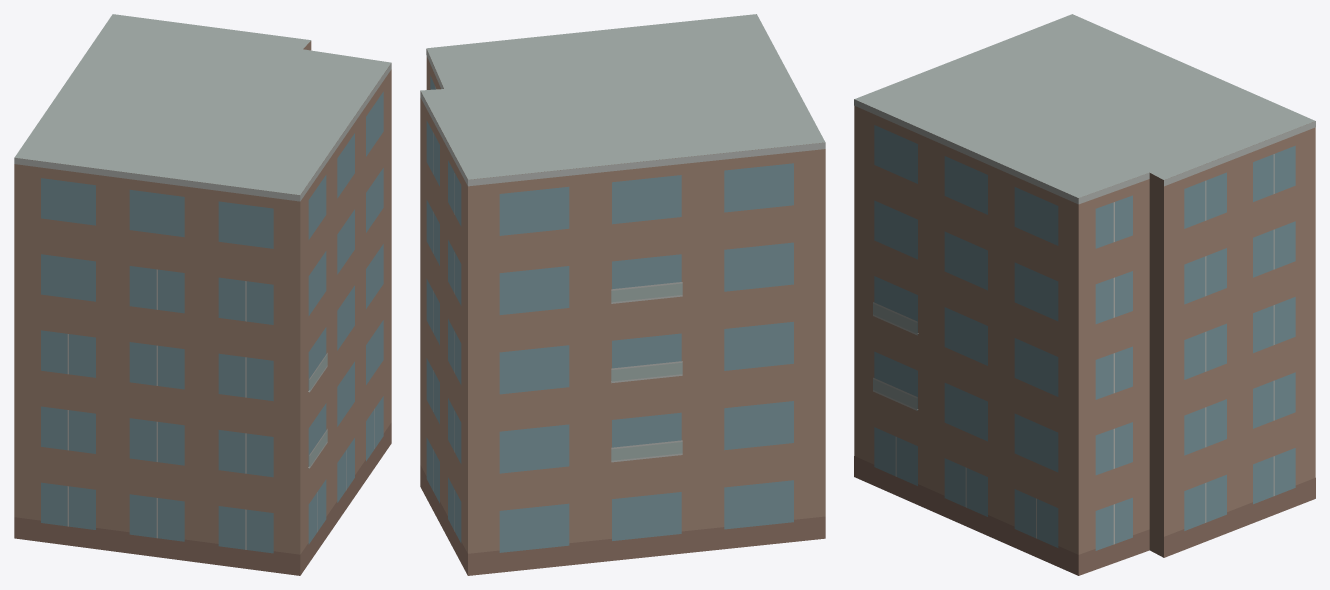
File: survey-upis-32718908.glb
The picture shows the model from 3 angles, left to right: view 1: azimuth 30°, elevation 25°; view 2: azimuth 150°, elevation 25°; view 3: azimuth 270°, elevation 25°; orthographic projection. The views are drawn at different scales.
Parts seen in each view (by area): view 1: survey-upis-32718908.tmp; view 2: survey-upis-32718908.tmp; view 3: survey-upis-32718908.tmp.
Boxes of the visible parts, box(x1,y1,x2,y2) form: survey-upis-32718908.tmp: box(14, 14, 391, 575); survey-upis-32718908.tmp: box(420, 14, 825, 575); survey-upis-32718908.tmp: box(854, 14, 1315, 575).
Bounding box in the file's own units: 15.27 × 14.6 × 16.17.
